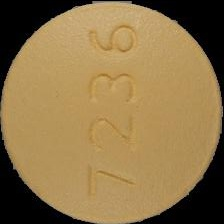35356-445: (0, 0, 224, 224)
